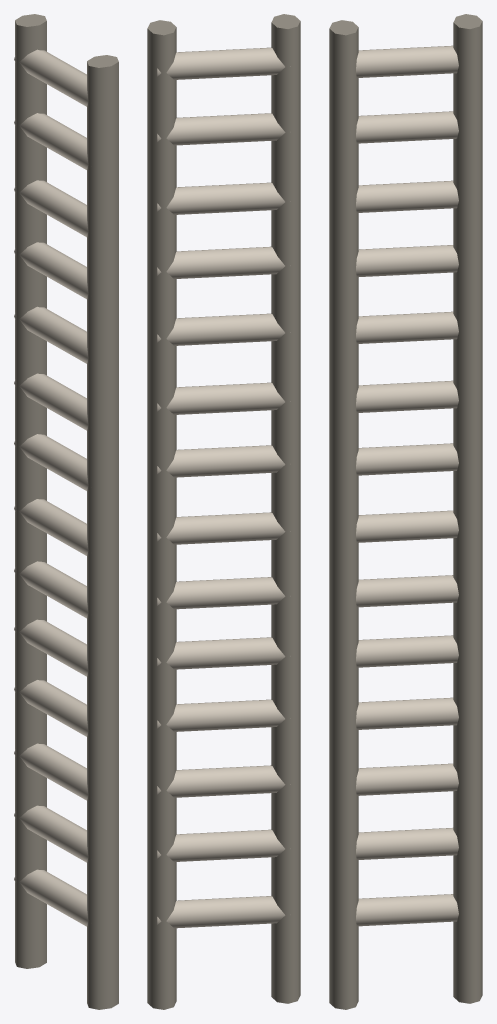
File: EscaleraDeMano.fbx
3 renders of one model, left to right at view 1: azimuth 90°, elevation 25°; view 2: azimuth 150°, elevation 25°; view 3: azimuth 330°, elevation 25°, orthographic. The views are drawn at different scales.
Visible parts, largest first — view 1: Barrote2, Barrote, polySurface53, polySurface47, polySurface51, polySurface52, polySurface55, polySurface42, polySurface40, polySurface46, polySurface48, polySurface49 (+4 smaller); view 2: Barrote, Barrote2, polySurface54, polySurface43, polySurface49, polySurface41, polySurface48, polySurface42, polySurface50, polySurface51, polySurface53, polySurface55 (+4 smaller); view 3: Barrote2, Barrote, polySurface43, polySurface49, polySurface54, polySurface48, polySurface41, polySurface42, polySurface46, polySurface47, polySurface51, polySurface55 (+4 smaller).
Part boxes in pixels (x1,y1,x2,y2): Barrote2: [87, 55, 118, 1009]; Barrote: [15, 14, 46, 968]; polySurface53: [14, 180, 88, 237]; polySurface47: [14, 561, 91, 618]; polySurface51: [14, 306, 91, 363]; polySurface52: [14, 242, 88, 299]; polySurface55: [14, 49, 91, 106]; polySurface42: [14, 680, 91, 736]; polySurface40: [14, 805, 91, 862]; polySurface46: [14, 869, 91, 926]; polySurface48: [14, 499, 91, 555]; polySurface49: [14, 434, 91, 490]; Barrote: [147, 20, 176, 1009]; Barrote2: [271, 14, 300, 1003]; polySurface54: [157, 113, 290, 145]; polySurface43: [157, 637, 290, 669]; polySurface49: [157, 445, 290, 477]; polySurface41: [157, 765, 290, 797]; polySurface48: [157, 512, 290, 544]; polySurface42: [157, 699, 290, 731]; polySurface50: [157, 382, 290, 414]; polySurface51: [157, 313, 290, 345]; polySurface53: [157, 182, 290, 214]; polySurface55: [157, 47, 290, 79]; Barrote2: [329, 20, 358, 1009]; Barrote: [453, 14, 482, 1003]; polySurface43: [356, 635, 458, 667]; polySurface49: [356, 443, 458, 475]; polySurface54: [356, 111, 458, 143]; polySurface48: [356, 510, 458, 542]; polySurface41: [356, 763, 458, 795]; polySurface42: [356, 697, 458, 729]; polySurface46: [356, 894, 458, 926]; polySurface47: [356, 575, 458, 607]; polySurface51: [356, 311, 458, 343]; polySurface55: [356, 45, 458, 77].
Size of the model in its own units: 0.7032 by 5.72 by 0.5767.
